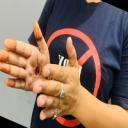hand: (33, 36, 83, 121), (0, 18, 51, 92)
